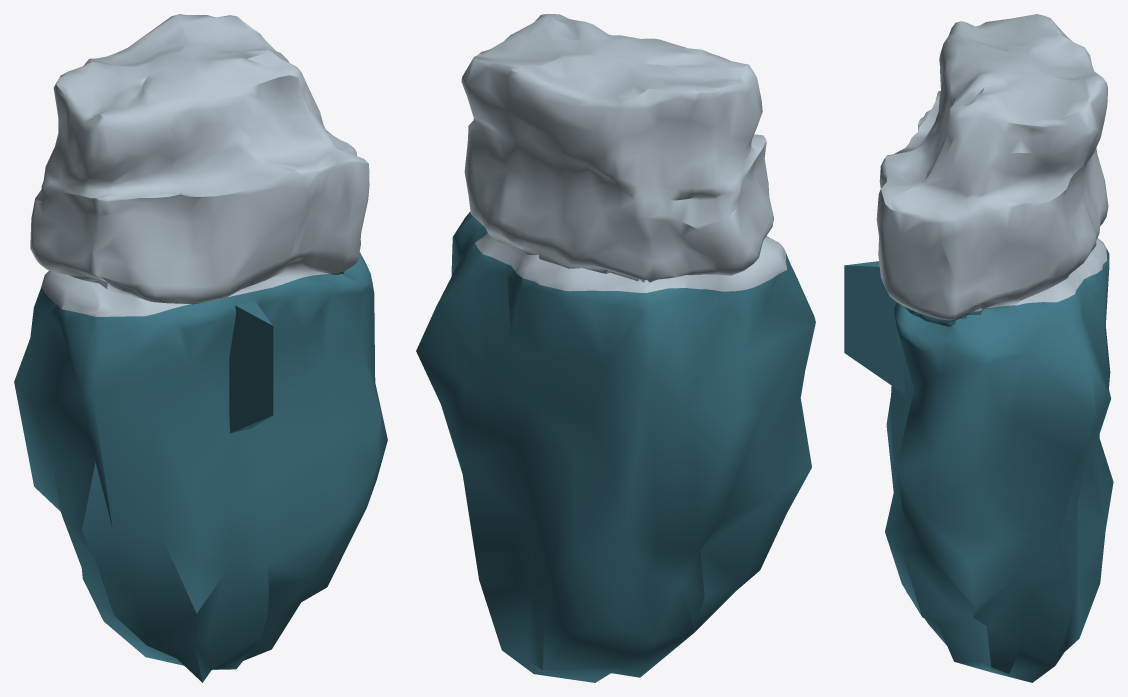
The model's file is iceberg_tabular.glb.
3 renders of one model, left to right at view 1: azimuth 30°, elevation 25°; view 2: azimuth 150°, elevation 25°; view 3: azimuth 270°, elevation 25°, orthographic. The views are drawn at different scales.
Parts seen in each view (by area): view 1: iceberg_tabular; view 2: iceberg_tabular; view 3: iceberg_tabular.
Part boxes in pixels (bbox=[...]): iceberg_tabular: bbox=[14, 14, 387, 682]; iceberg_tabular: bbox=[416, 14, 815, 682]; iceberg_tabular: bbox=[844, 14, 1113, 682].
Size of the model in its own units: 16.4 by 31 by 12.53.
